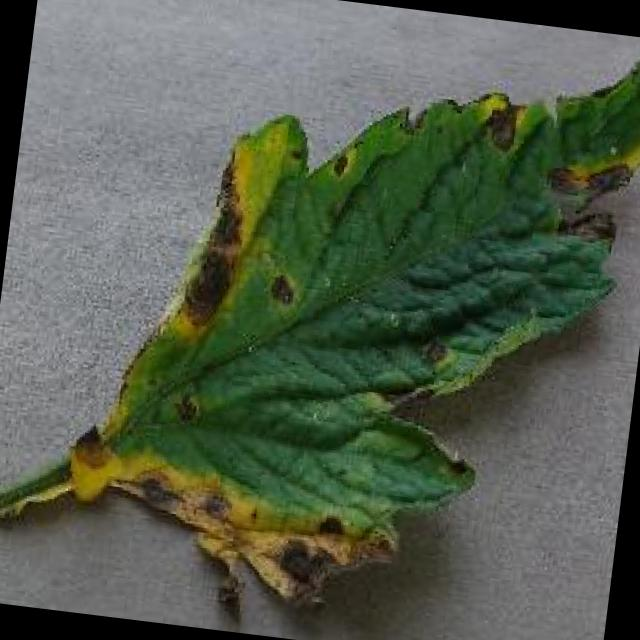Tomato_Early_Blight: (6, 0, 640, 635)
